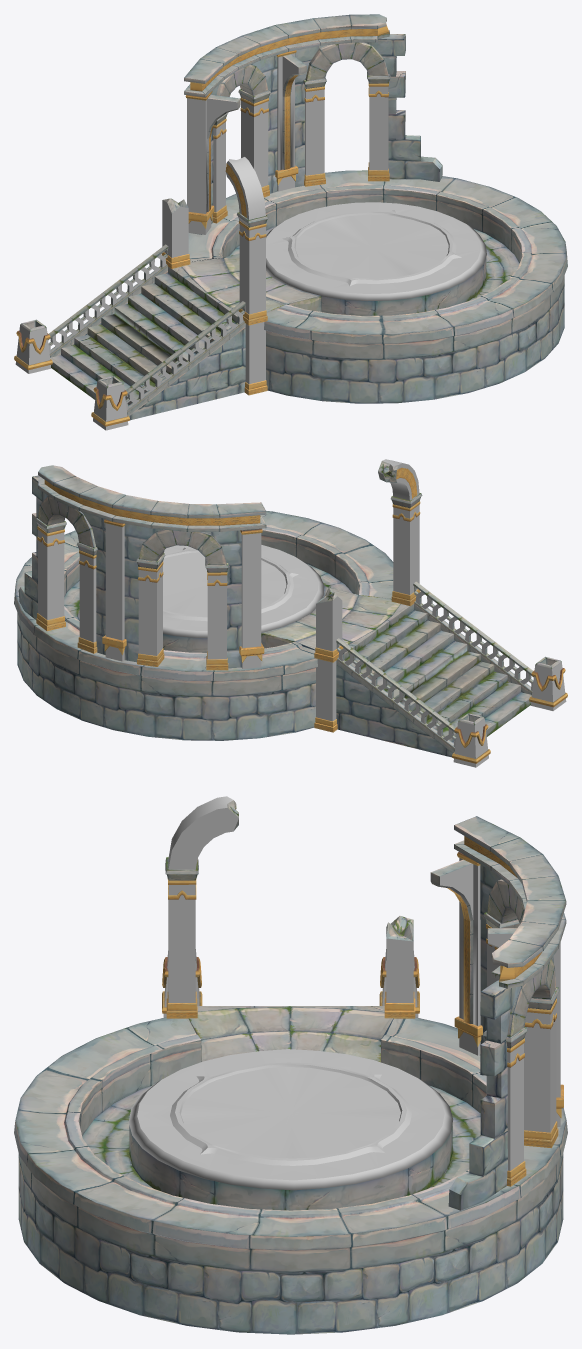
The model's file is geo_temple_fin.fbx.
The picture shows the model from 3 angles, top to bottom: view 1: azimuth 30°, elevation 25°; view 2: azimuth 150°, elevation 25°; view 3: azimuth 270°, elevation 25°; orthographic projection. The views are drawn at different scales.
Visible parts, largest first — view 1: geo_Temple_Stair_LP.003; view 2: geo_Temple_Stair_LP.003; view 3: geo_Temple_Stair_LP.003.
Part boxes in pixels (<box>): geo_Temple_Stair_LP.003: <box>14,14,567,430</box>; geo_Temple_Stair_LP.003: <box>14,459,567,767</box>; geo_Temple_Stair_LP.003: <box>14,796,567,1334</box>.
Bounding box in the file's own units: 21.1 × 9.45 × 14.87.
